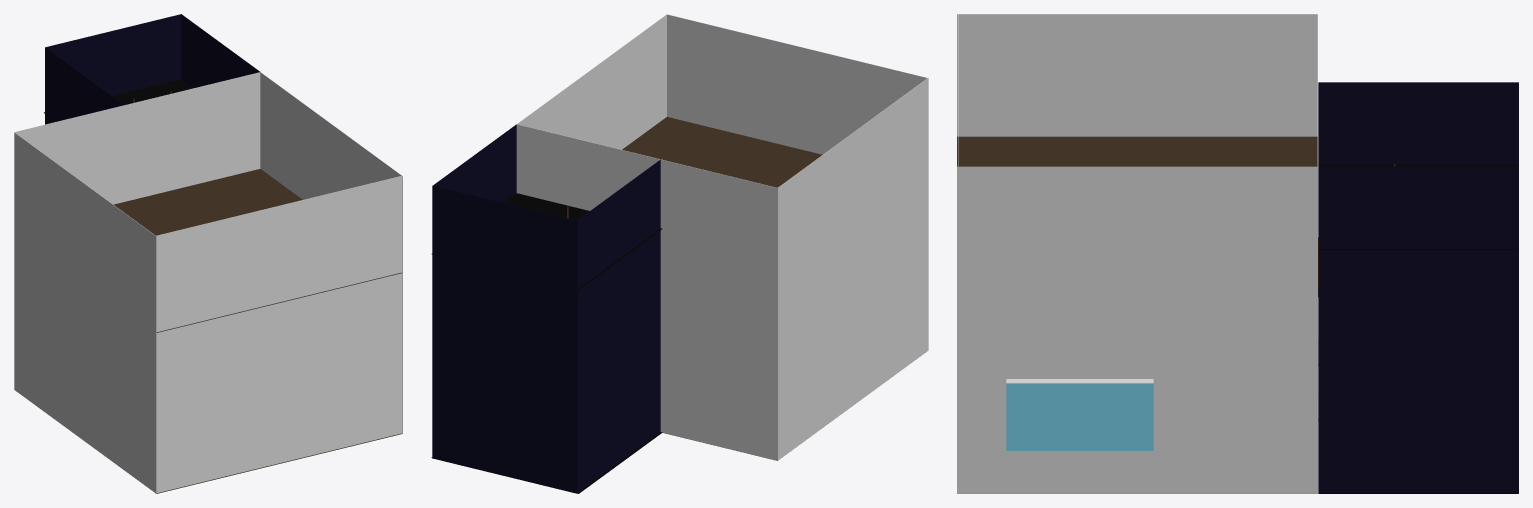
File: roomv2test.fbx
The picture shows the model from 3 angles, left to right: view 1: azimuth 30°, elevation 25°; view 2: azimuth 150°, elevation 25°; view 3: azimuth 270°, elevation 25°; orthographic projection. The views are drawn at different scales.
Visible parts, largest first — view 1: walls, FoodWalls, cieling; view 2: walls, FoodWalls, cieling; view 3: walls, FoodWalls, cieling.
Boxes of the visible parts, <box> form: walls: <box>14,72,402,493</box>; FoodWalls: <box>44,14,259,124</box>; cieling: <box>114,169,402,332</box>; walls: <box>516,14,928,460</box>; FoodWalls: <box>431,124,662,493</box>; cieling: <box>622,117,822,187</box>; walls: <box>957,14,1317,493</box>; FoodWalls: <box>1318,82,1518,493</box>; cieling: <box>957,136,1317,166</box>.
Bounding box in the file's own units: 16519 × 16046 × 24940.
